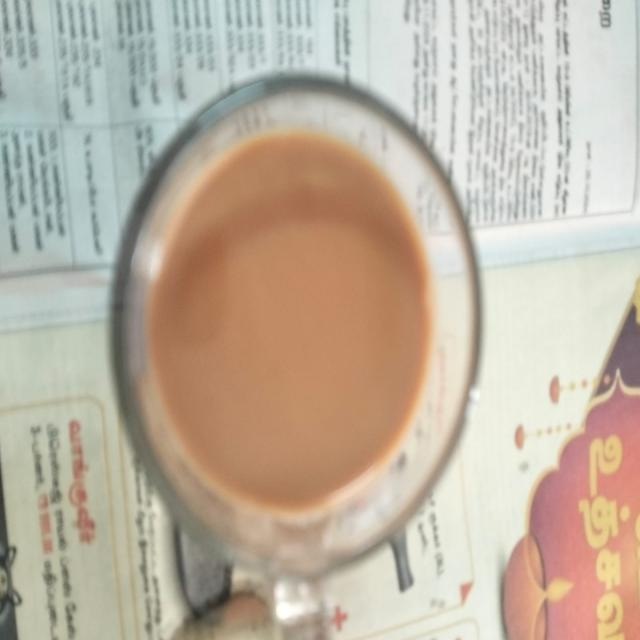glass-VX4N: (109, 70, 484, 625), (489, 346, 491, 349)
